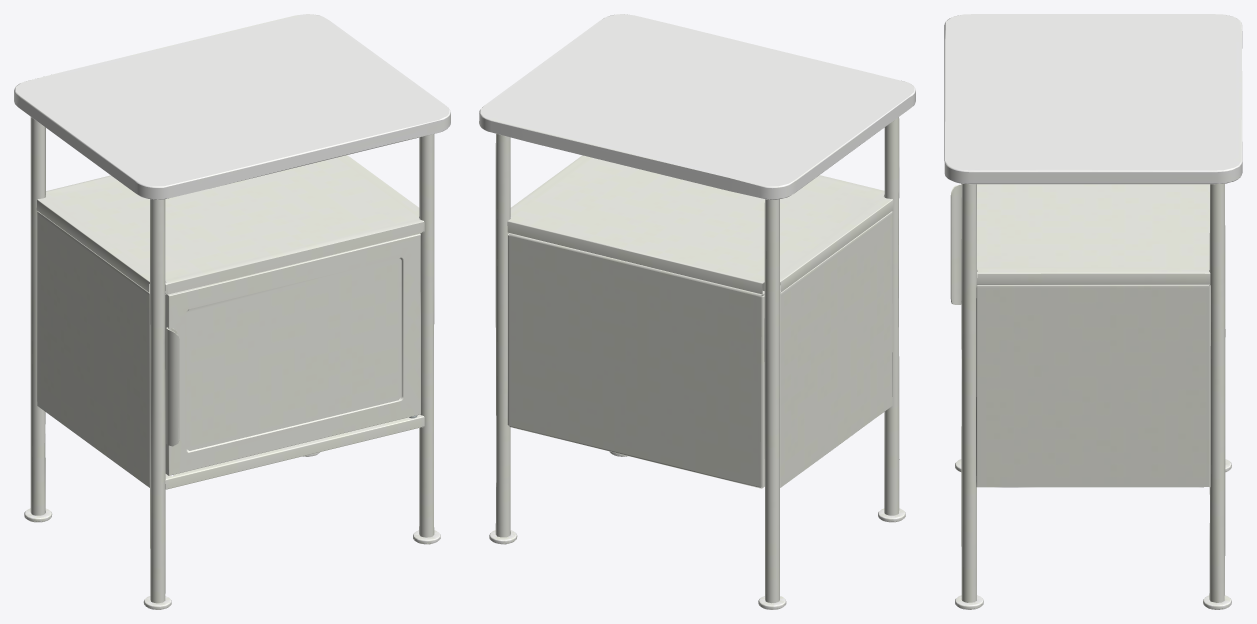
The model's file is grafjaellet_nightstand_white.glb.
3 views of the same model, side by side, from view 1: azimuth 30°, elevation 25°; view 2: azimuth 150°, elevation 25°; view 3: azimuth 270°, elevation 25° (orthographic). The views are drawn at different scales.
Visible parts, largest first — view 1: ASY_ART_00583106_S01_NV01; view 2: ASY_ART_00583106_S01_NV01; view 3: ASY_ART_00583106_S01_NV01.
Part boxes in pixels (x1=…): ASY_ART_00583106_S01_NV01: x1=14, y1=14, x2=450, y2=609; ASY_ART_00583106_S01_NV01: x1=479, y1=14, x2=915, y2=609; ASY_ART_00583106_S01_NV01: x1=944, y1=14, x2=1242, y2=609.
Size of the model in its own units: 0.4505 by 0.5926 by 0.3604.
1 material, 1 textured.
